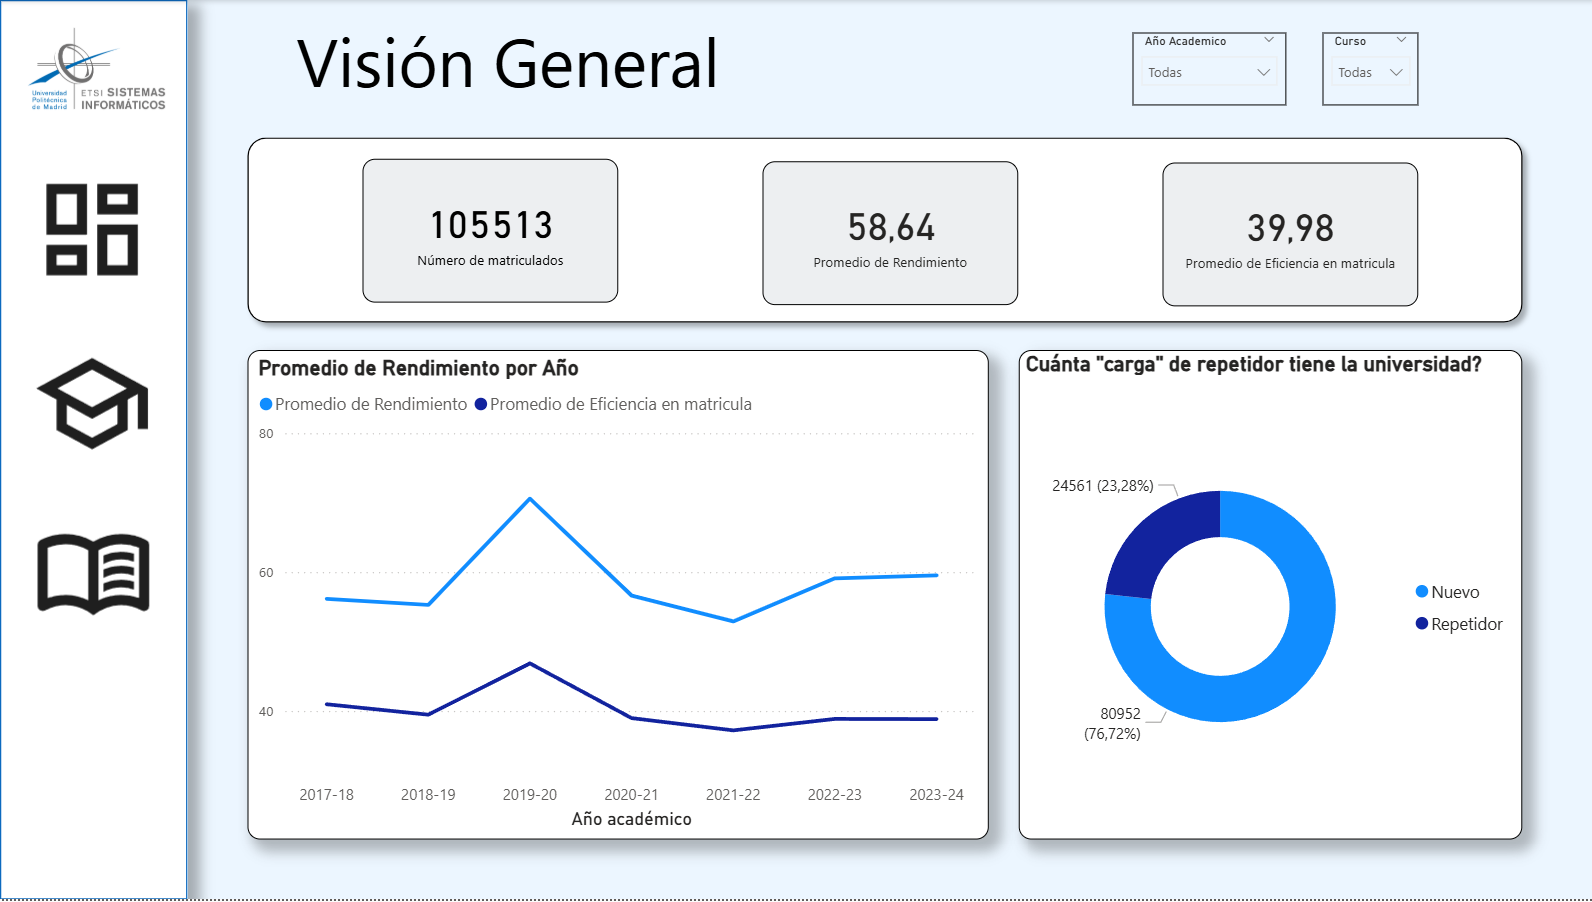

Layout of this report page (visuals, bound fields, positions):
{"tool":"powerbi","page":{"name":"Página 1","canvas":[1280,720],"ordinal":0},"visuals":[{"type":"shape","box":[166.1,90.5,1093,166.1],"z":0},{"type":"shape","box":[0,0,150,720.3],"z":1000},{"type":"card","fields":{"Values":["Sum(Fact_rendimiento_transformado.N__Matriculados)"]},"box":[232.7,111.6,249.7,114.7],"z":2000},{"type":"slicer","title":"Filtro","fields":{"Values":["dim_tiempo.Anio_Academico"]},"box":[1077.3,19.1,123.2,57.4],"z":3000},{"type":"lineChart","fields":{"Category":["dim_tiempo.Anio_Academico"],"Y":["Avg(Fact_rendimiento_transformado.Rendimiento)","Avg(Fact_rendimiento_transformado.Eficiencia_en_matricula)"]},"box":[175.3,263.5,633.2,389.9],"z":4000},{"type":"card","fields":{"Values":["Avg(Fact_rendimiento_transformado.Rendimiento)"]},"box":[608.8,110.5,249.7,115.8],"z":5000},{"type":"card","fields":{"Values":["Avg(Fact_rendimiento_transformado.Eficiencia_en_matricula)"]},"box":[943.4,111.6,249.7,115.8],"z":6000},{"type":"textbox","box":[214.4,0,361.5,96.6],"z":8000},{"type":"image","box":[0,0,155.6,110.9],"z":9000},{"type":"donutChart","title":"Cuánta \"carga\" de repetidor tiene la universidad?","fields":{"Category":["Fact_rendimiento_transformado.Repetidor_Nuevo"],"Y":["Sum(Fact_rendimiento_transformado.N__Matriculados)"]},"box":[824.4,263.5,425,389.9],"z":10000},{"type":"slicer","title":"Filtro","fields":{"Values":["dim_asignatura.Curso"]},"box":[960.4,18.1,76.5,58.4],"z":11000},{"type":"actionButton","box":[22.4,398.9,105.5,120.8],"z":14000},{"type":"actionButton","box":[21.5,263,105.5,119.9],"z":15000},{"type":"actionButton","box":[21.5,123.4,105.5,120.8],"z":16000}]}

Visuals, with their boxes on the page's 1280x720 design canvas (x1, y1, x2, y2). These are canvas units, not pixel positions in the 1592x902 screenshot, which may show the page scaled, cropped or inside an application window:
shape: x1=166, y1=90, x2=1259, y2=257
shape: x1=0, y1=0, x2=150, y2=720
card - Sum(Fact_rendimiento_transformado.N__Matriculados): x1=233, y1=112, x2=482, y2=226
"Filtro" slicer: x1=1077, y1=19, x2=1200, y2=76
lineChart - dim_tiempo.Anio_Academico x Avg(Fact_rendimiento_transformado.Rendimiento): x1=175, y1=264, x2=808, y2=653
card - Avg(Fact_rendimiento_transformado.Rendimiento): x1=609, y1=110, x2=858, y2=226
card - Avg(Fact_rendimiento_transformado.Eficiencia_en_matricula): x1=943, y1=112, x2=1193, y2=227
textbox: x1=214, y1=0, x2=576, y2=97
image: x1=0, y1=0, x2=156, y2=111
"Cuánta "carga" de repetidor tiene la universidad?" donutChart: x1=824, y1=264, x2=1249, y2=653
"Filtro" slicer: x1=960, y1=18, x2=1037, y2=76
actionButton: x1=22, y1=399, x2=128, y2=520
actionButton: x1=22, y1=263, x2=127, y2=383
actionButton: x1=22, y1=123, x2=127, y2=244
